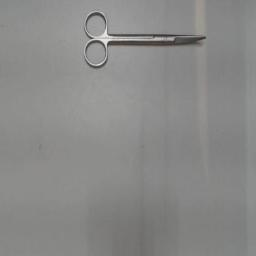Curved Mayo Scissors: (80, 8, 210, 72)
